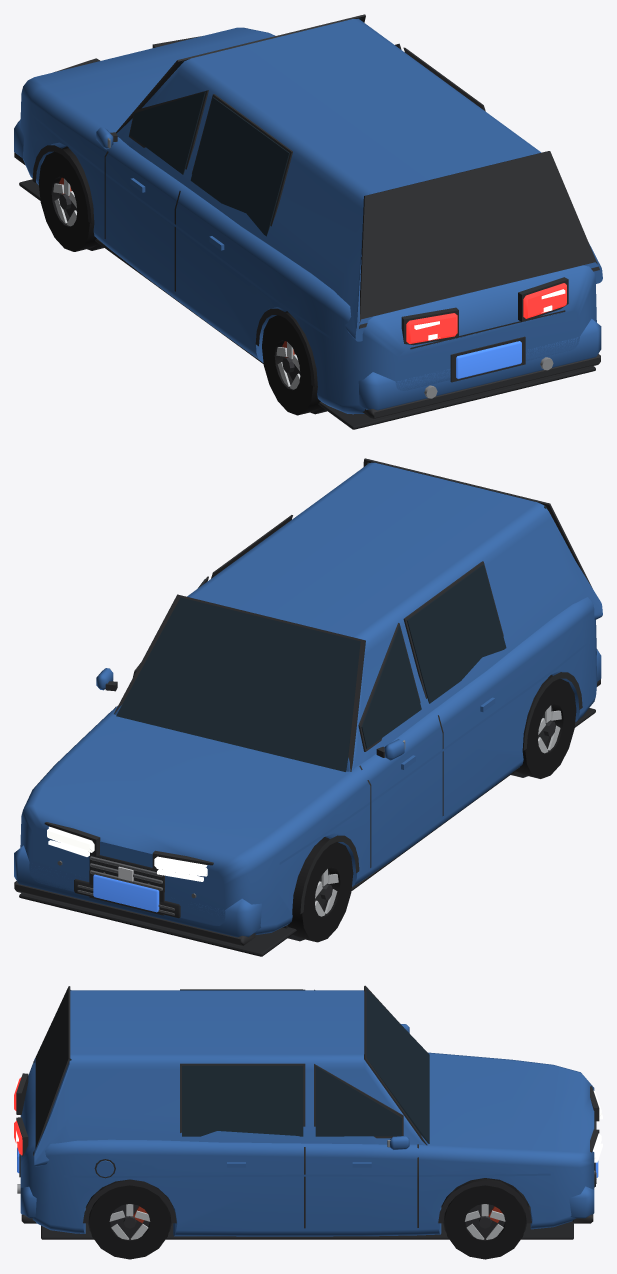
Rendered from car_hatchback_city_blue.glb.
3 renders of one model, top to bottom at view 1: azimuth 30°, elevation 25°; view 2: azimuth 150°, elevation 25°; view 3: azimuth 270°, elevation 25°, orthographic. The views are drawn at different scales.
Visible parts, largest first — view 1: Body, Trim, Glass, Wheel_FL, Wheel_RL, Lights, Plate_R; view 2: Body, Glass, Trim, Wheel_FL, Wheel_RL, Lights, Plate_F; view 3: Body, Glass, Trim, Wheel_FR, Wheel_RR, Lights.
Boxes of the visible parts, bbox=[...] form: Body: bbox=[14, 18, 602, 414]; Trim: bbox=[14, 14, 600, 429]; Glass: bbox=[107, 18, 361, 236]; Wheel_FL: bbox=[38, 148, 98, 251]; Wheel_RL: bbox=[262, 312, 322, 415]; Lights: bbox=[406, 283, 566, 343]; Plate_R: bbox=[456, 341, 521, 378]; Body: bbox=[14, 462, 602, 937]; Glass: bbox=[109, 462, 547, 771]; Trim: bbox=[14, 458, 600, 956]; Wheel_FL: bbox=[287, 838, 353, 942]; Wheel_RL: bbox=[516, 676, 576, 778]; Lights: bbox=[47, 826, 207, 881]; Plate_F: bbox=[93, 874, 159, 912]; Body: bbox=[20, 990, 594, 1236]; Glass: bbox=[65, 988, 429, 1147]; Trim: bbox=[16, 985, 599, 1239]; Wheel_FR: bbox=[444, 1178, 526, 1259]; Wheel_RR: bbox=[89, 1179, 170, 1259]; Lights: bbox=[14, 1077, 602, 1162].
Size of the model in its own units: 2.04 by 1.52 by 4.31.
